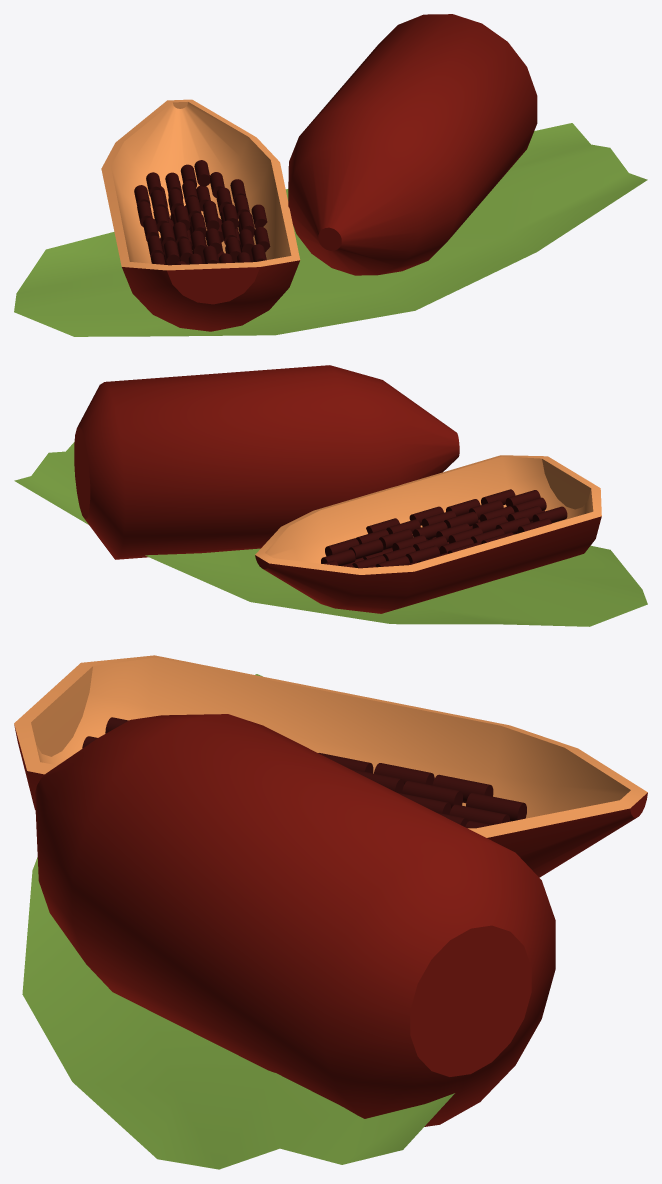
The model's file is CacaoCollectible.FBX.
3 views of the same model, one above another, from view 1: azimuth 30°, elevation 25°; view 2: azimuth 150°, elevation 25°; view 3: azimuth 270°, elevation 25° (orthographic). The views are drawn at different scales.
Parts seen in each view (by area): view 1: CacaoCollectible; view 2: CacaoCollectible; view 3: CacaoCollectible.
Part boxes in pixels (x1,y1,x2,y2): CacaoCollectible: [14, 14, 647, 336]; CacaoCollectible: [14, 365, 647, 626]; CacaoCollectible: [14, 655, 647, 1169].
Bounding box in the file's own units: 8.1 × 2.2 × 4.37.
